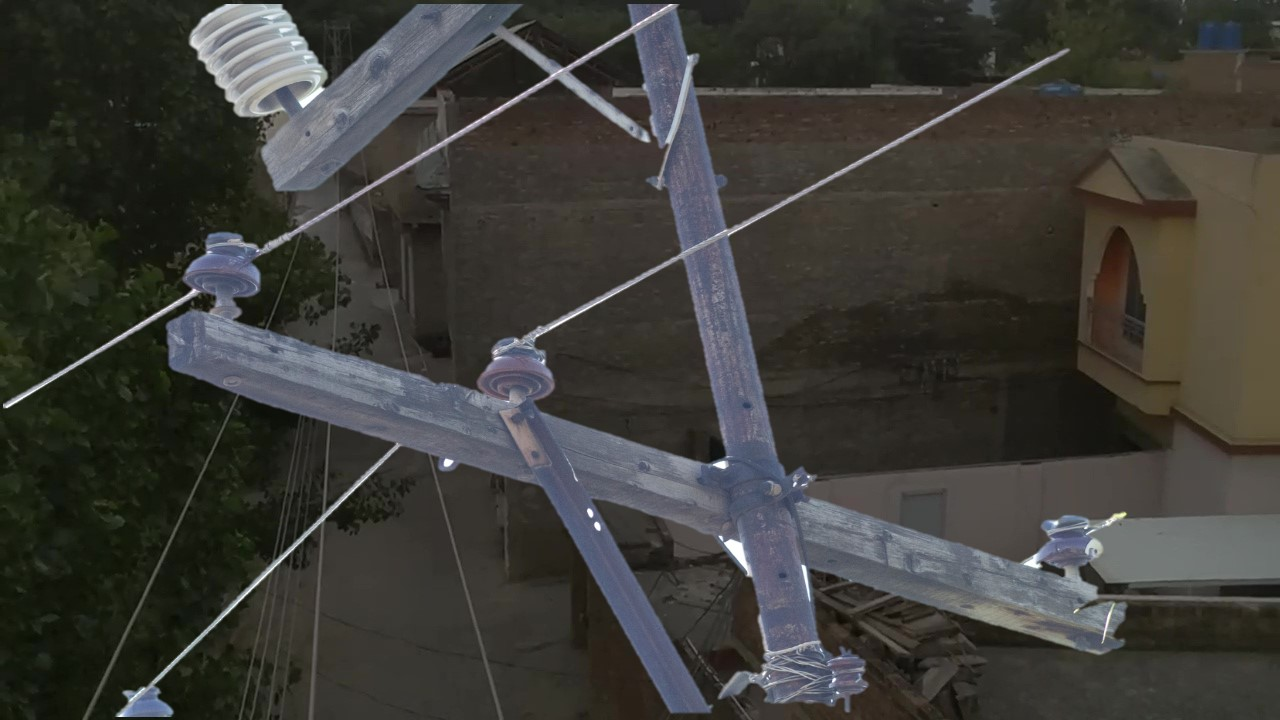defect_pin: (1028, 501, 1132, 576)
insulator_pin: (178, 219, 272, 307), (475, 328, 561, 406)
